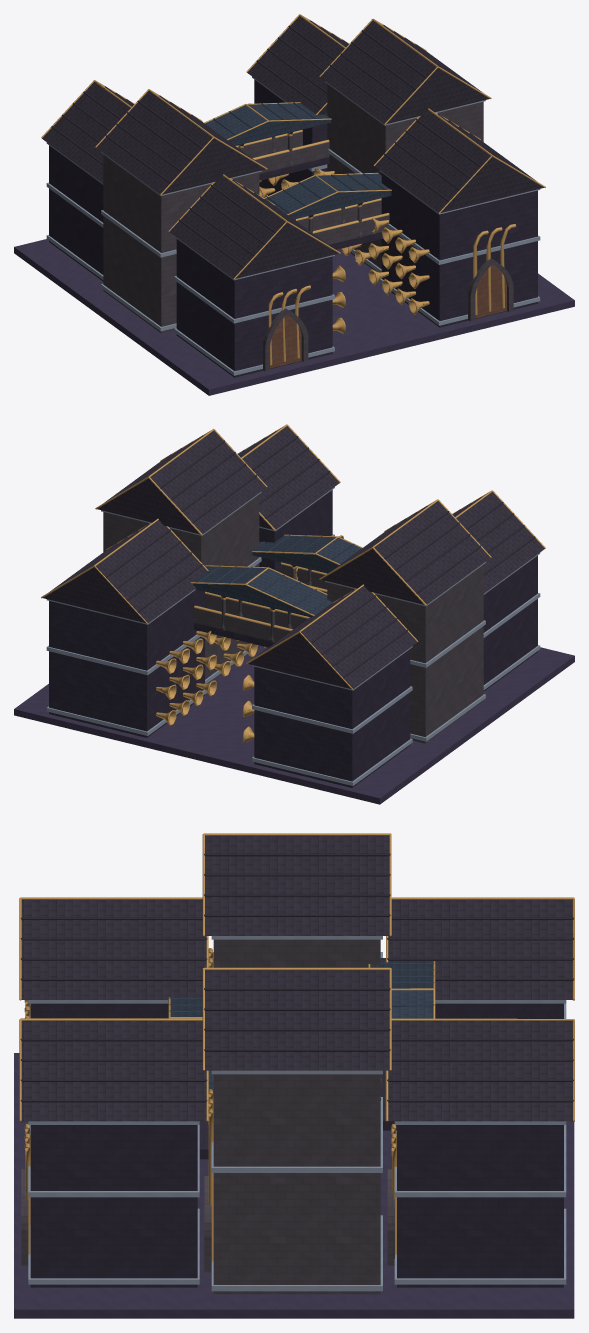
The model's file is whispertube-tenements-far.glb.
The picture shows the model from 3 angles, top to bottom: view 1: azimuth 30°, elevation 25°; view 2: azimuth 150°, elevation 25°; view 3: azimuth 270°, elevation 25°; orthographic projection. The views are drawn at different scales.
Size of the model in its own units: 20.15 by 11.02 by 18.62.
Materials: 9 (9 with a texture image).
